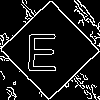E: (25, 25, 59, 71)
